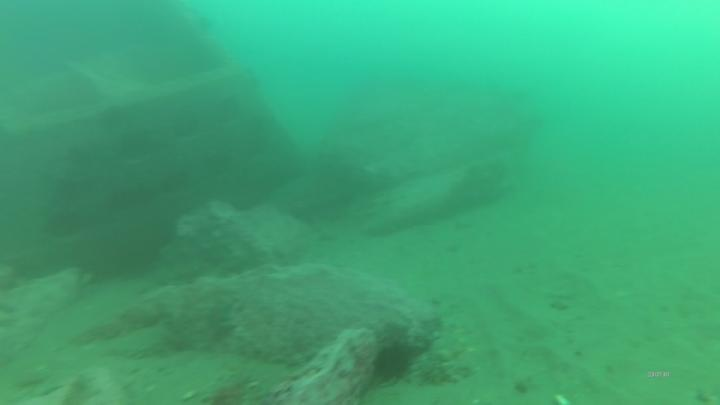echinus: (368, 340, 412, 387)
